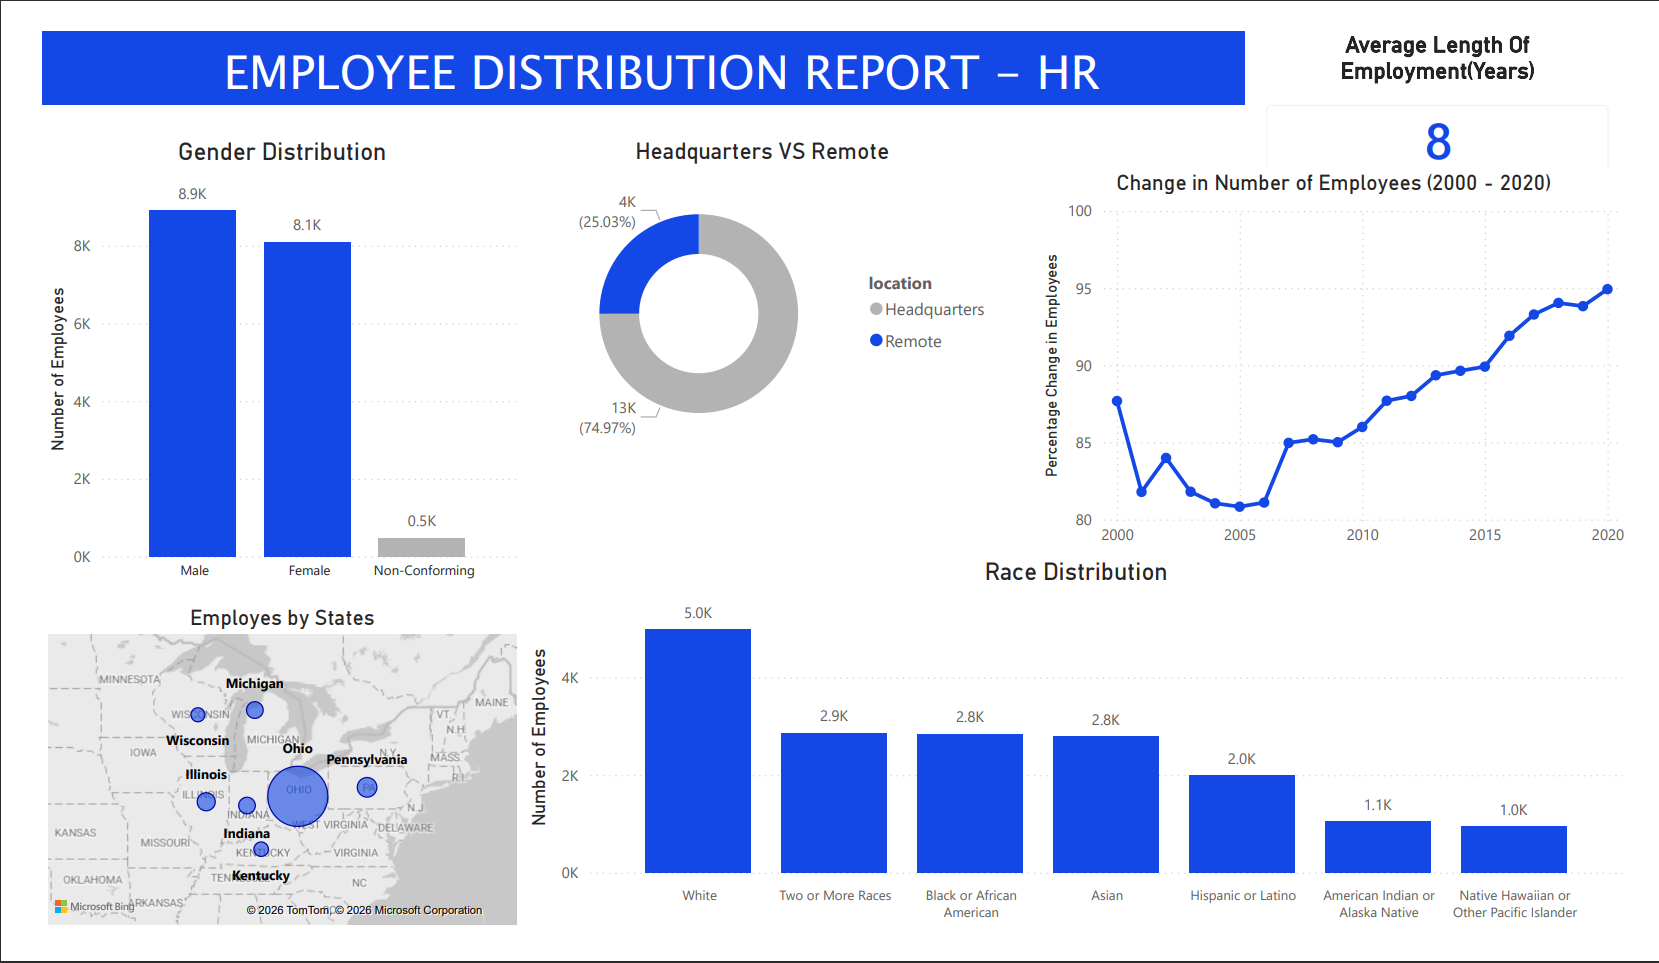

This screenshot's page, from the dashboard's own definition file:
{"tool":"powerbi","page":{"name":"Page 1","canvas":[1280,720],"ordinal":0},"visuals":[{"type":"textbox","box":[9.8,0,999.3,58.6],"z":0},{"type":"cardVisual","title":"Average Length Of Employment(Years)","fields":{"Data":["Sum(avg_length_requirement.avg_length_employment)"]},"box":[972.4,0,307.6,150.5],"z":1000},{"type":"columnChart","title":"Gender Distribution","fields":{"Category":["gender.gender"],"Y":["Sum(gender.count)"]},"box":[9.8,84.6,384.1,363.7],"z":2000},{"type":"donutChart","title":"Headquarters VS Remote","fields":{"Y":["Sum(location.count)"],"Category":["location.location"]},"box":[393.9,84.6,384.1,261.2],"z":3000},{"type":"lineChart","title":"Change in Number of Employees (2000 - 2020)","fields":{"Category":["employee_change.year"],"Y":["Sum(employee_change.net_change_percentage)"]},"box":[806.4,110.7,473.6,310],"z":4000},{"type":"map","title":"Employes by States","fields":{"Size":["Sum(state.count)"],"Category":["state.location_state"]},"box":[10,459,384,261],"z":5000},{"type":"clusteredColumnChart","title":"Race Distribution","fields":{"Category":["race.race"],"Y":["Sum(race.count)"]},"box":[393.6,420.9,886.4,299.1],"z":6000}]}

Visuals, with their boxes on the page's 1280x720 design canvas (x1, y1, x2, y2). These are canvas units, not pixel positions in the 1659x963 screenshot, which may show the page scaled, cropped or inside an application window:
textbox: l=10, t=0, r=1009, b=59
"Average Length Of Employment(Years)" cardVisual: l=972, t=0, r=1280, b=150
"Gender Distribution" columnChart: l=10, t=85, r=394, b=448
"Headquarters VS Remote" donutChart: l=394, t=85, r=778, b=346
"Change in Number of Employees (2000 - 2020)" lineChart: l=806, t=111, r=1280, b=421
"Employes by States" map: l=10, t=459, r=394, b=720
"Race Distribution" clusteredColumnChart: l=394, t=421, r=1280, b=720
